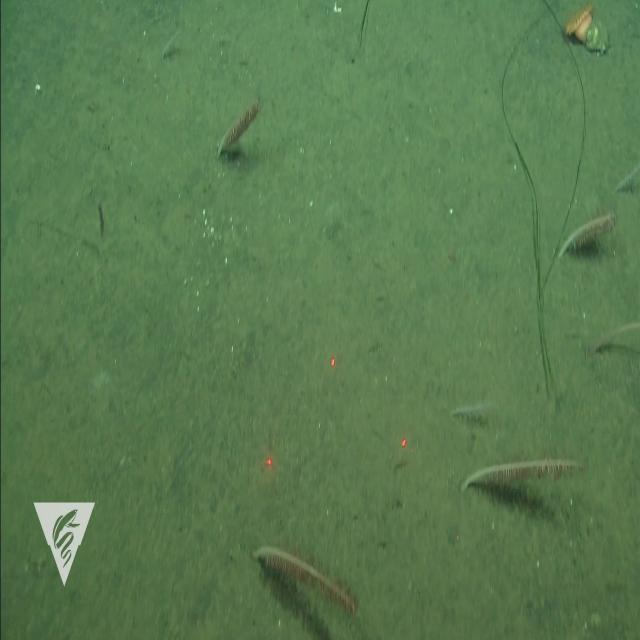Not Brittle Star: (253, 539, 358, 619), (463, 452, 582, 492), (215, 97, 263, 157), (561, 212, 617, 261), (593, 318, 640, 352), (562, 0, 596, 46), (450, 396, 497, 424), (617, 164, 640, 192), (400, 435, 408, 450), (329, 354, 336, 368), (266, 457, 273, 468)
